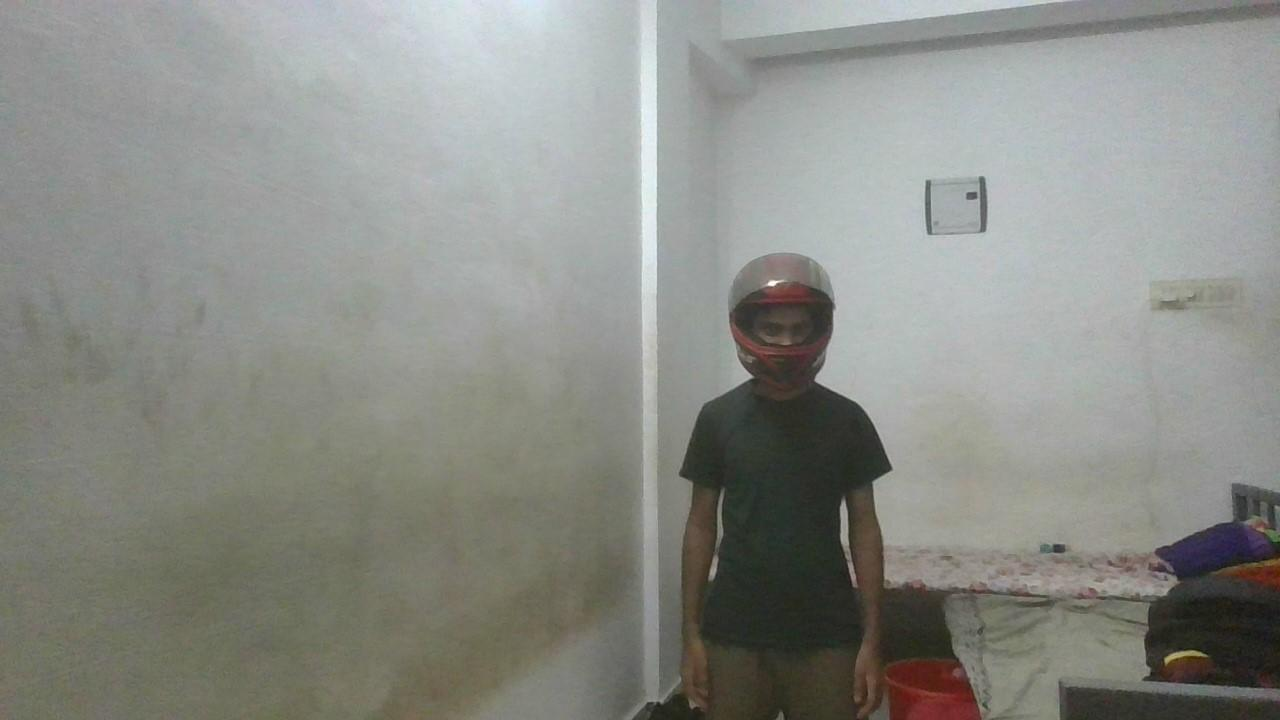helmet: (727, 252, 836, 392)
